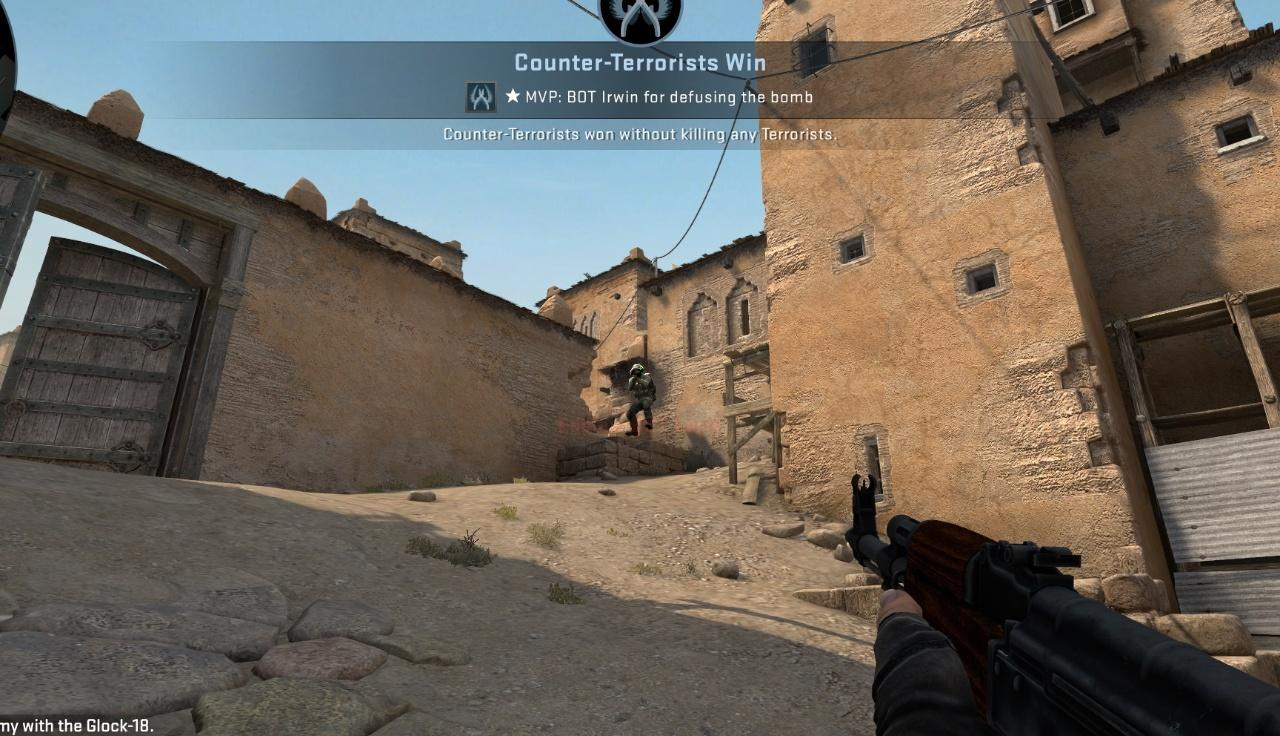ct: (628, 364, 655, 434)
cthead: (632, 364, 642, 378)
rifle: (846, 473, 1280, 736)
